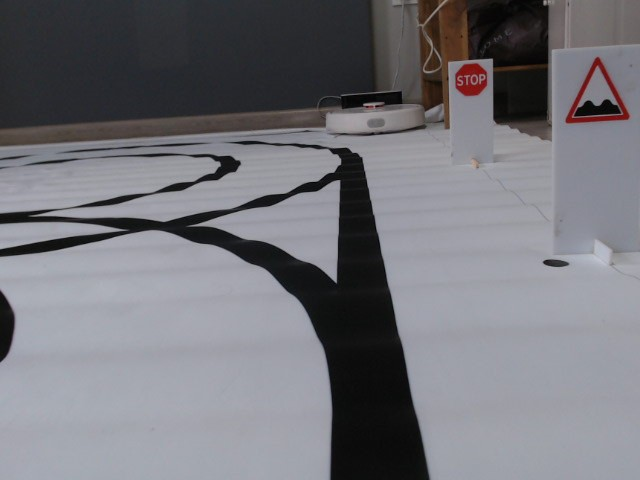Nerov: (562, 56, 632, 126)
